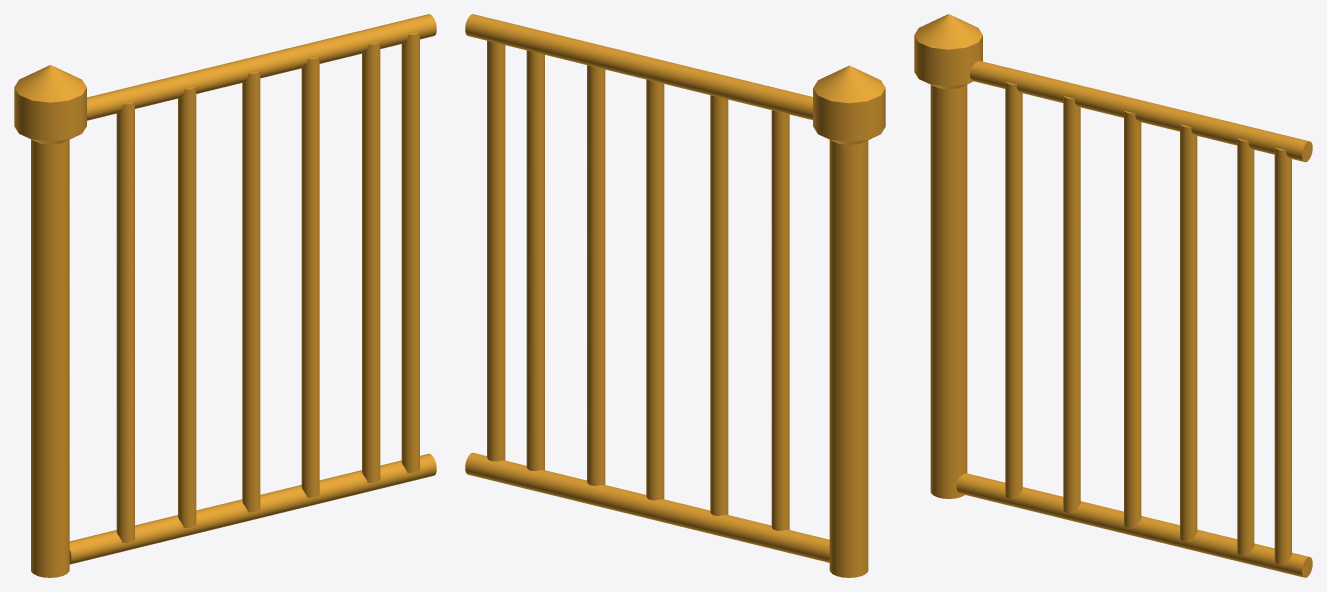
Rendered from FenceGate.FBX.
3 views of the same model, side by side, from view 1: azimuth 30°, elevation 25°; view 2: azimuth 150°, elevation 25°; view 3: azimuth 330°, elevation 25° (orthographic). The views are drawn at different scales.
Parts seen in each view (by area): view 1: Cylinder010, Cylinder015, Cylinder014, Cylinder017, Cylinder016, Cylinder012, Cylinder018, Cylinder013, Cylinder011, Spindle002; view 2: Cylinder010, Cylinder011, Cylinder013, Cylinder018, Cylinder015, Cylinder012, Cylinder017, Cylinder014, Cylinder016, Spindle002; view 3: Cylinder010, Cylinder014, Cylinder012, Cylinder017, Cylinder018, Cylinder016, Cylinder015, Cylinder013, Cylinder011, Spindle002.
Part boxes in pixels (bbox=[...]): Cylinder010: bbox=[31, 139, 69, 577]; Cylinder015: bbox=[242, 71, 260, 512]; Cylinder014: bbox=[178, 86, 196, 527]; Cylinder017: bbox=[362, 41, 380, 482]; Cylinder016: bbox=[301, 56, 319, 497]; Cylinder012: bbox=[116, 101, 134, 542]; Cylinder018: bbox=[401, 32, 419, 473]; Cylinder013: bbox=[87, 14, 436, 120]; Cylinder011: bbox=[69, 453, 436, 564]; Spindle002: bbox=[14, 65, 86, 144]; Cylinder010: bbox=[829, 140, 868, 577]; Cylinder011: bbox=[465, 452, 829, 562]; Cylinder013: bbox=[465, 14, 812, 119]; Cylinder018: bbox=[487, 41, 505, 461]; Cylinder015: bbox=[646, 79, 664, 500]; Cylinder012: bbox=[771, 110, 789, 530]; Cylinder017: bbox=[526, 50, 544, 470]; Cylinder014: bbox=[710, 95, 728, 515]; Cylinder016: bbox=[587, 65, 605, 485]; Spindle002: bbox=[813, 65, 885, 144]; Cylinder010: bbox=[930, 84, 967, 498]; Cylinder014: bbox=[1063, 96, 1080, 513]; Cylinder012: bbox=[1005, 82, 1022, 499]; Cylinder017: bbox=[1237, 138, 1254, 555]; Cylinder018: bbox=[1274, 147, 1291, 564]; Cylinder016: bbox=[1180, 124, 1197, 541]; Cylinder015: bbox=[1124, 111, 1141, 528]; Cylinder013: bbox=[970, 60, 1312, 162]; Cylinder011: bbox=[956, 473, 1312, 577]; Spindle002: bbox=[914, 14, 982, 89].
Size of the model in its own units: 9.13 by 10.7 by 1.4.
